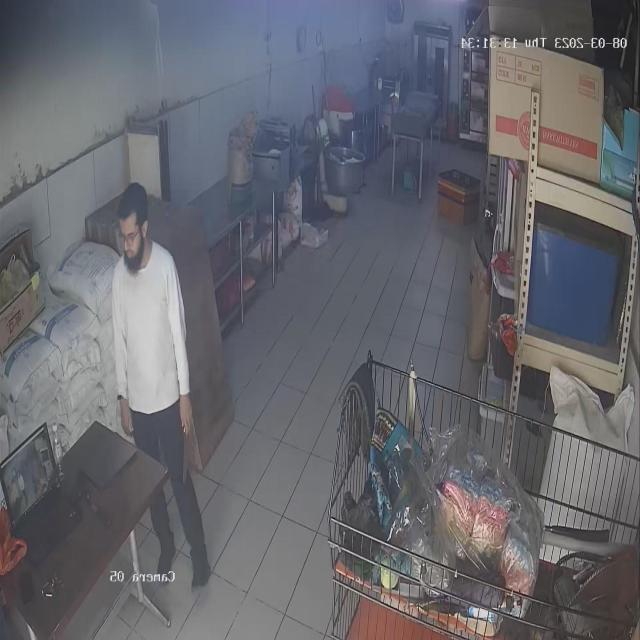Knife: (176, 416, 202, 494)
